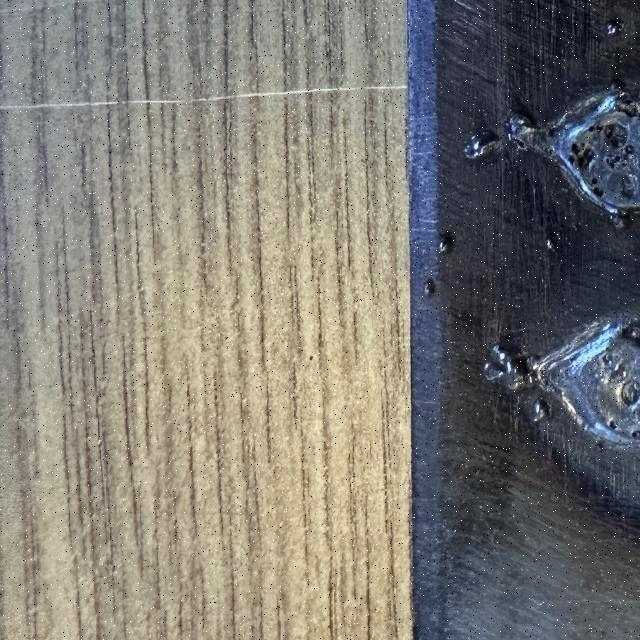Excess Reinforcement: (534, 340, 585, 396), (532, 113, 576, 172), (484, 345, 535, 391), (602, 78, 640, 117), (609, 207, 640, 230)
Porosity: (569, 110, 640, 207), (595, 122, 628, 148), (571, 142, 594, 168), (620, 378, 640, 406), (604, 148, 621, 168), (591, 178, 604, 198), (609, 420, 619, 431), (631, 430, 640, 442), (625, 145, 634, 155)
Spatters: (464, 128, 502, 160), (506, 113, 536, 149), (532, 400, 550, 421), (606, 18, 624, 37), (440, 232, 455, 254), (545, 235, 559, 252), (424, 278, 435, 296), (596, 442, 605, 452)
